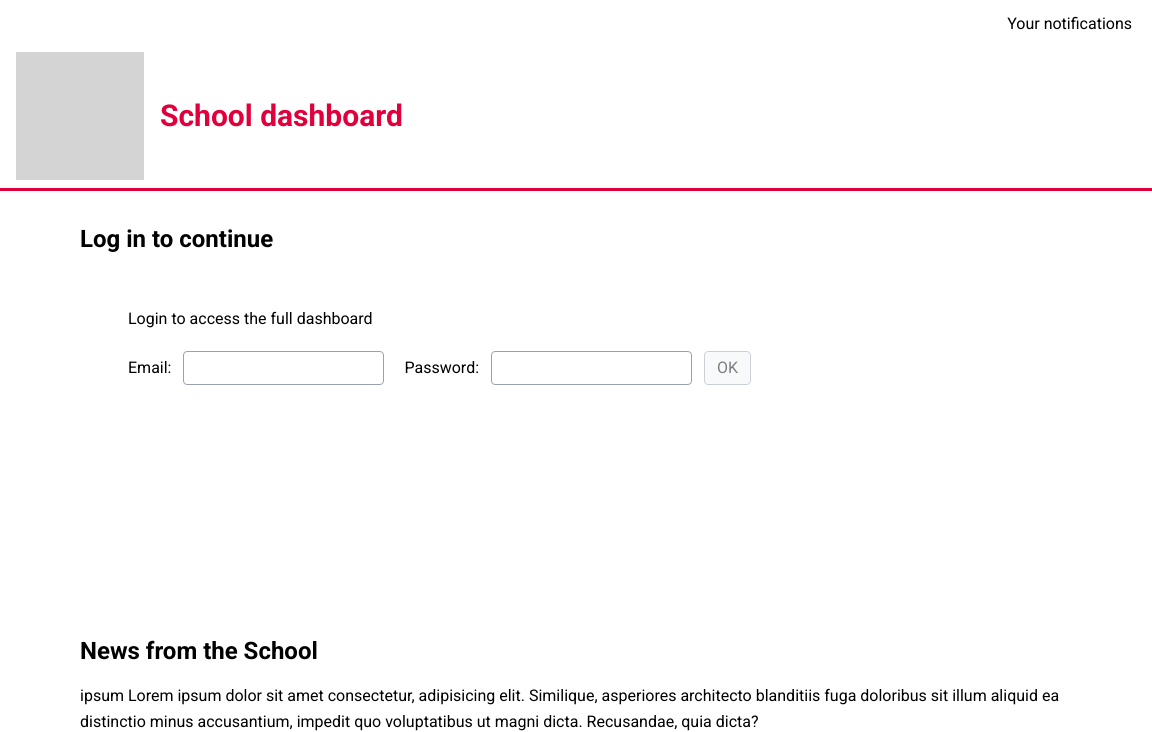
Test: App component › logs the user out with control and h
This screenshot has width=1152, height=732.
Step 1. Type "user@example.com" into the field labelled "Email:" → {"x": 284, "y": 368}, box [184,351,384,385]
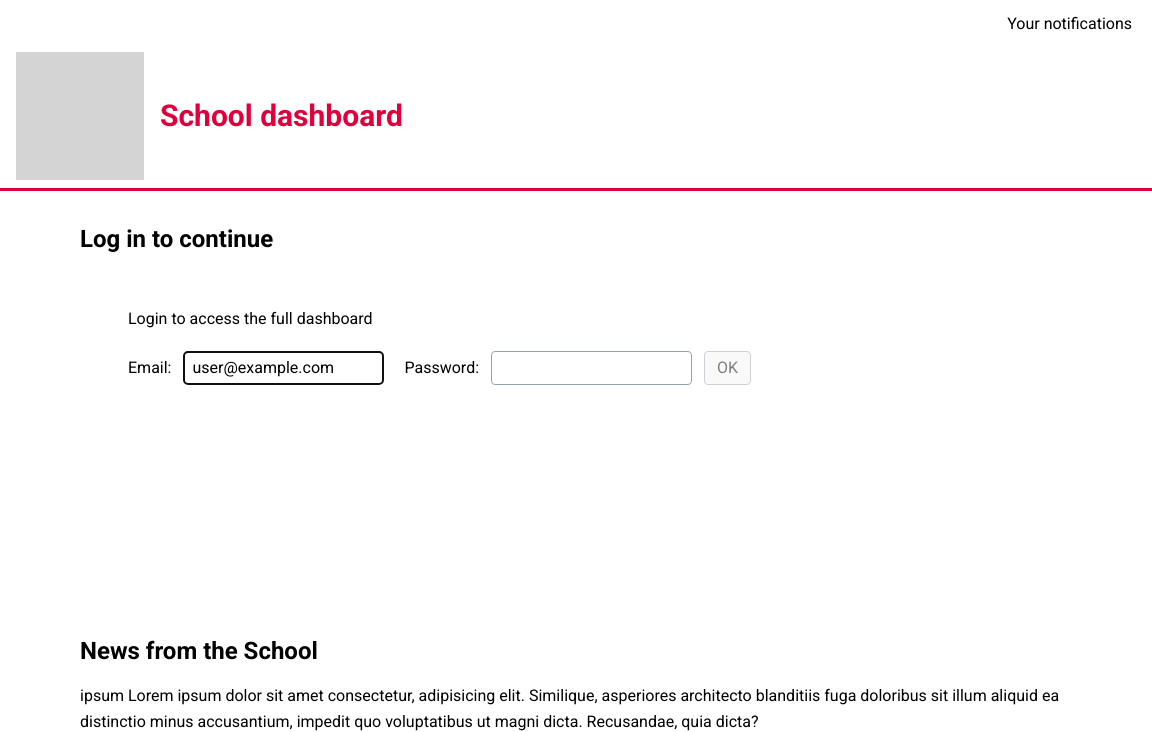
Step 2. Type "password123" into the password field labelled "Password:" → {"x": 592, "y": 368}, box [491,351,692,385]
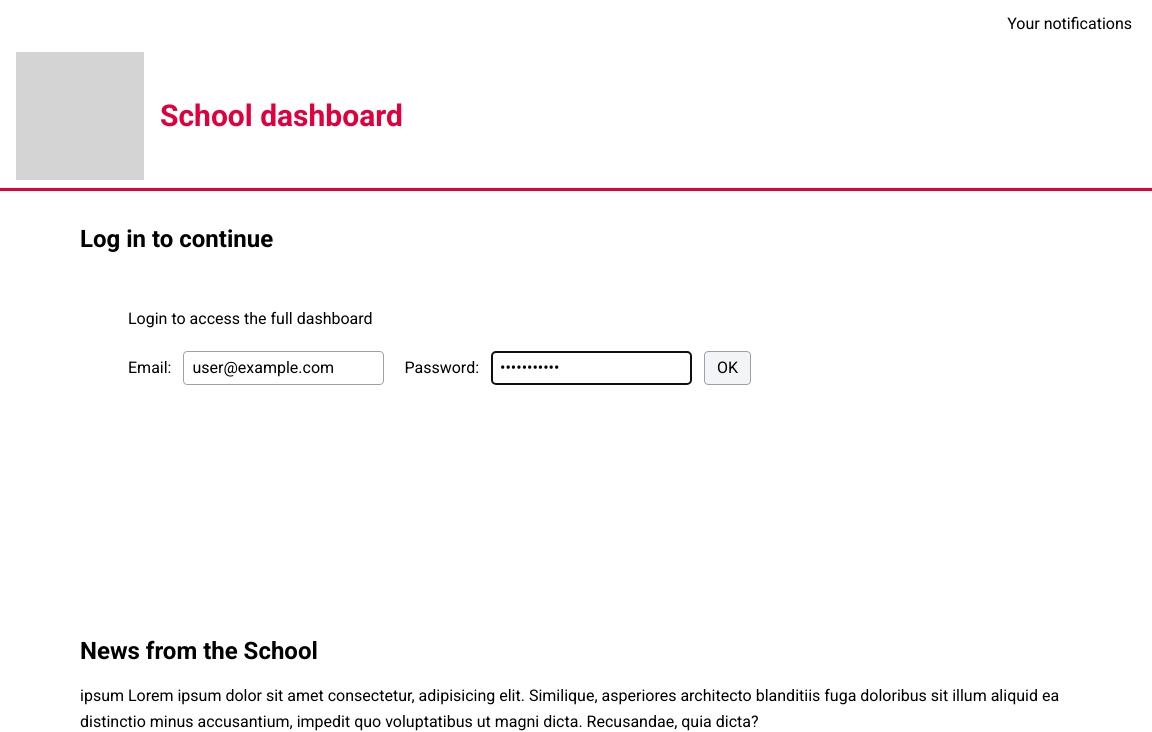
expect the button "OK" is enabled: met
Step 3. Click the button "OK" → {"x": 728, "y": 368}, box [704,351,751,385]
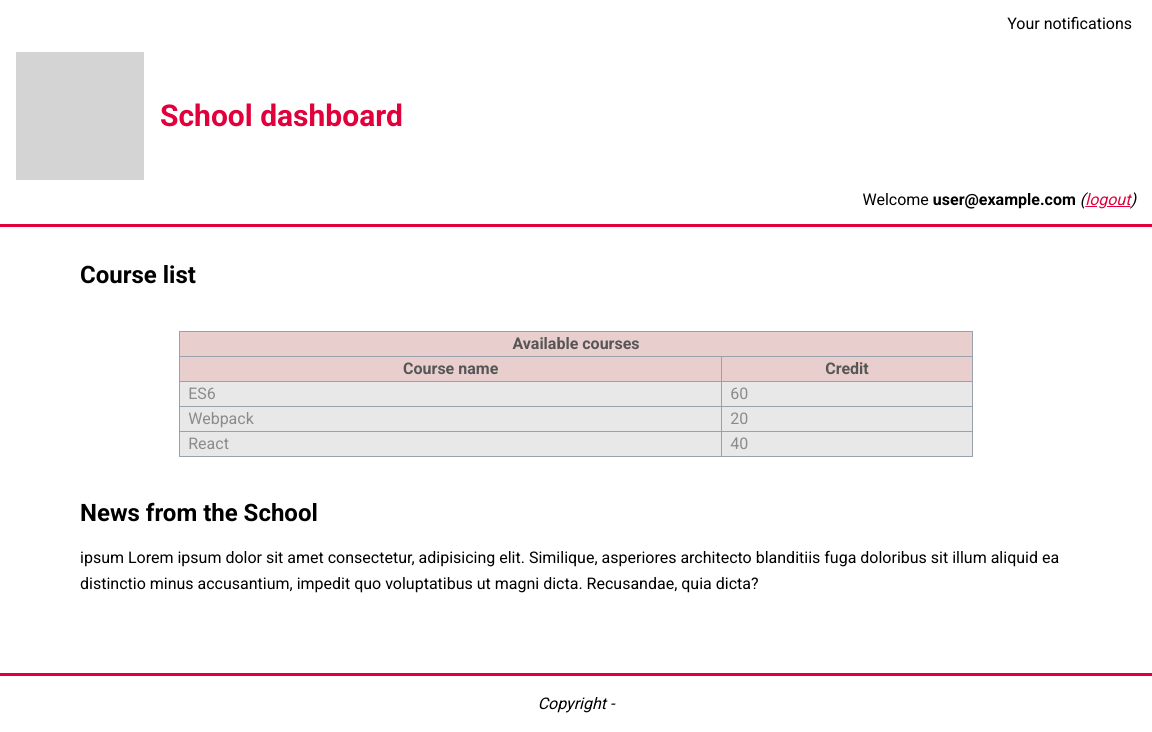
expect the table is shown: met, box [179,331,973,457]
Step 4. Press h
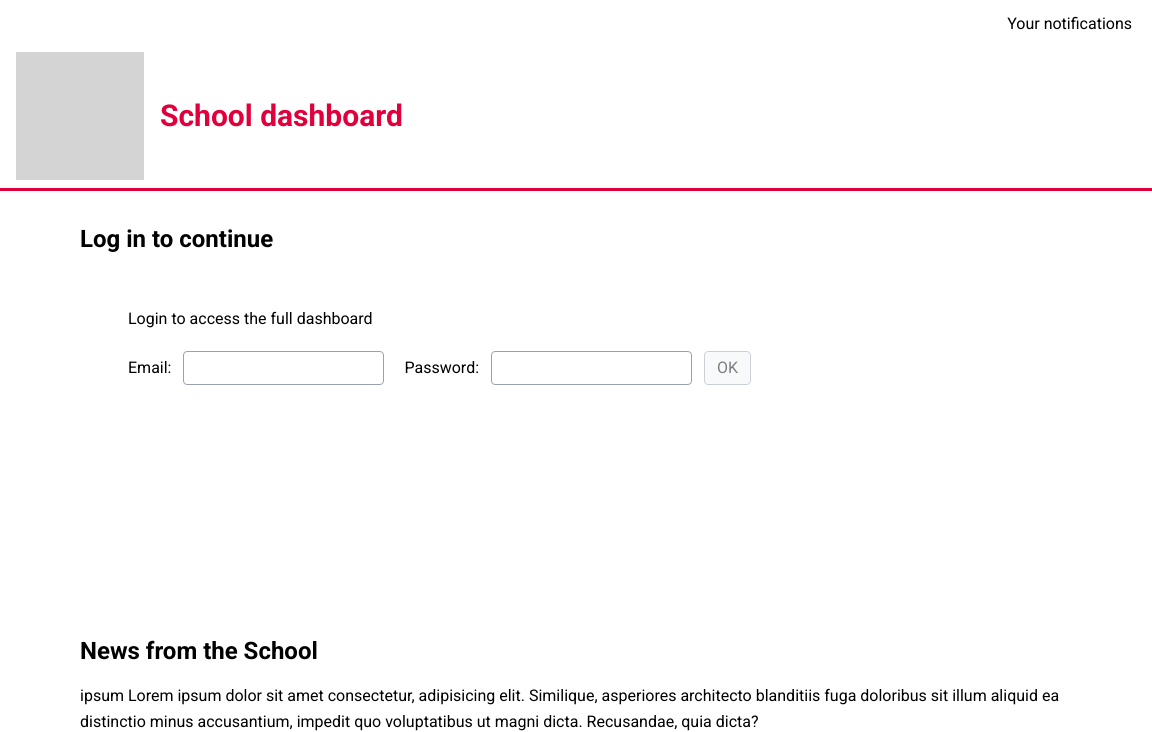
expect the text "Login to access the full dashboard" is shown: met, box [128,309,373,328]
